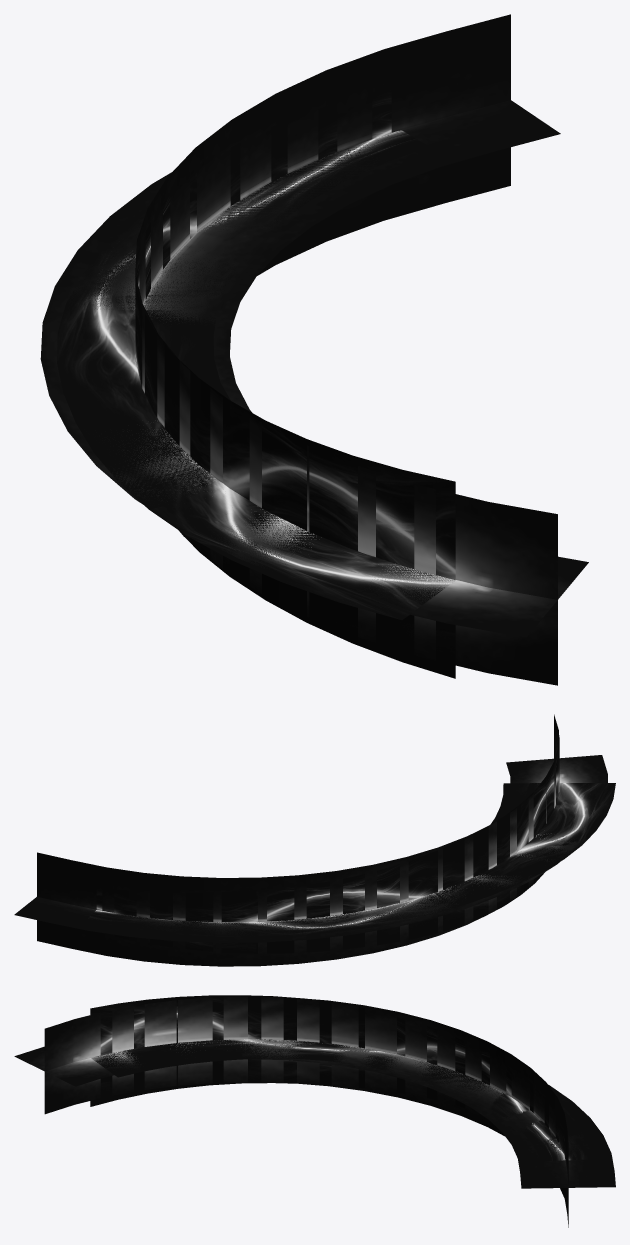
File: FX_lxf_war_luoxuan_001.FBX
The picture shows the model from 3 angles, top to bottom: view 1: azimuth 30°, elevation 25°; view 2: azimuth 150°, elevation 25°; view 3: azimuth 270°, elevation 25°; orthographic projection. The views are drawn at different scales.
Visible parts, largest first — view 1: Plane002, Plane004; view 2: Plane002, Plane004; view 3: Plane002, Plane004.
Boxes of the visible parts, x1,y1,x2,y2 form: Plane002: (40,14,588,685); Plane004: (57,88,455,678); Plane002: (14,714,607,966); Plane004: (86,735,615,953); Plane002: (14,996,615,1227); Plane004: (90,995,589,1161).
Size of the model in its own units: 42.36 by 11.5 by 63.63.
